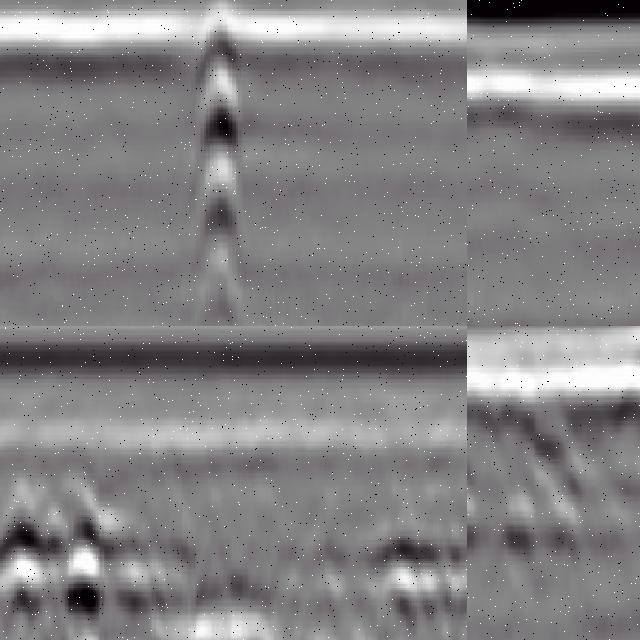crack: (188, 1, 250, 327)
loose: (1, 501, 169, 635), (468, 426, 640, 538), (376, 505, 468, 630)
